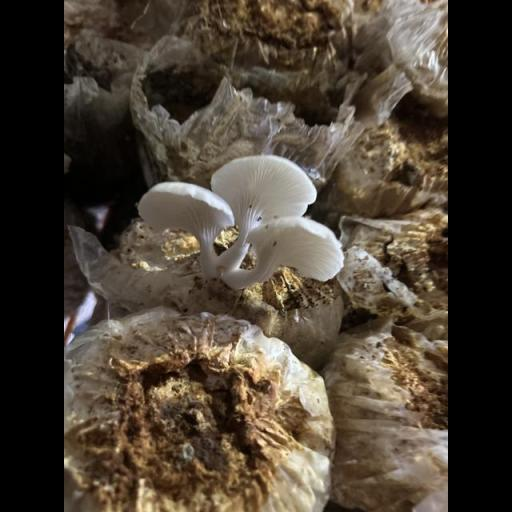White Oyster Mushroom: (138, 152, 345, 289)
